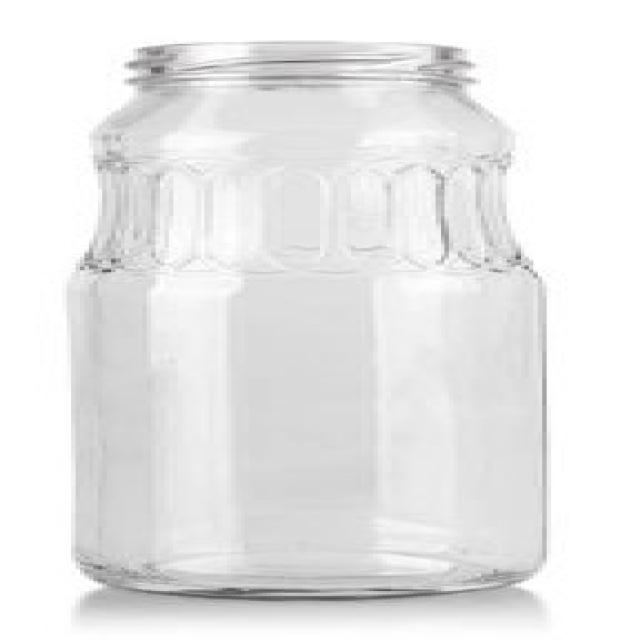electronic: (57, 38, 567, 605)
